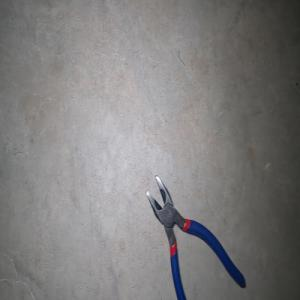Pliers: (145, 174, 246, 300)
